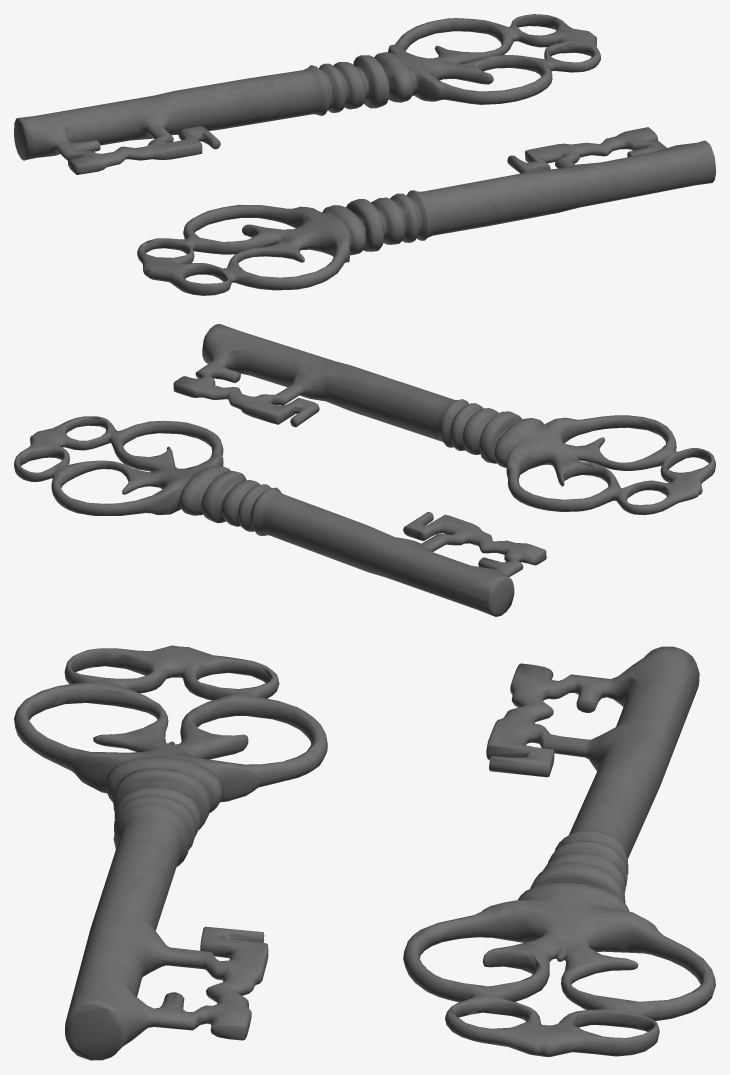
The model's file is 07_oldkey6.fbx.
The picture shows the model from 3 angles, top to bottom: view 1: azimuth 30°, elevation 25°; view 2: azimuth 150°, elevation 25°; view 3: azimuth 270°, elevation 25°; orthographic projection. The views are drawn at different scales.
Visible parts, largest first — view 1: Box.040, Box.004; view 2: Box.004, Box.040; view 3: Box.040, Box.004.
Boxes of the visible parts, bbox=[...] form: Box.040: bbox=[14, 14, 600, 174]; Box.004: bbox=[137, 127, 715, 295]; Box.004: bbox=[173, 324, 715, 514]; Box.040: bbox=[14, 416, 546, 616]; Box.040: bbox=[403, 646, 715, 1056]; Box.004: bbox=[14, 645, 327, 1060].
Bounding box in the file's own units: 392 × 34.3 × 282.
